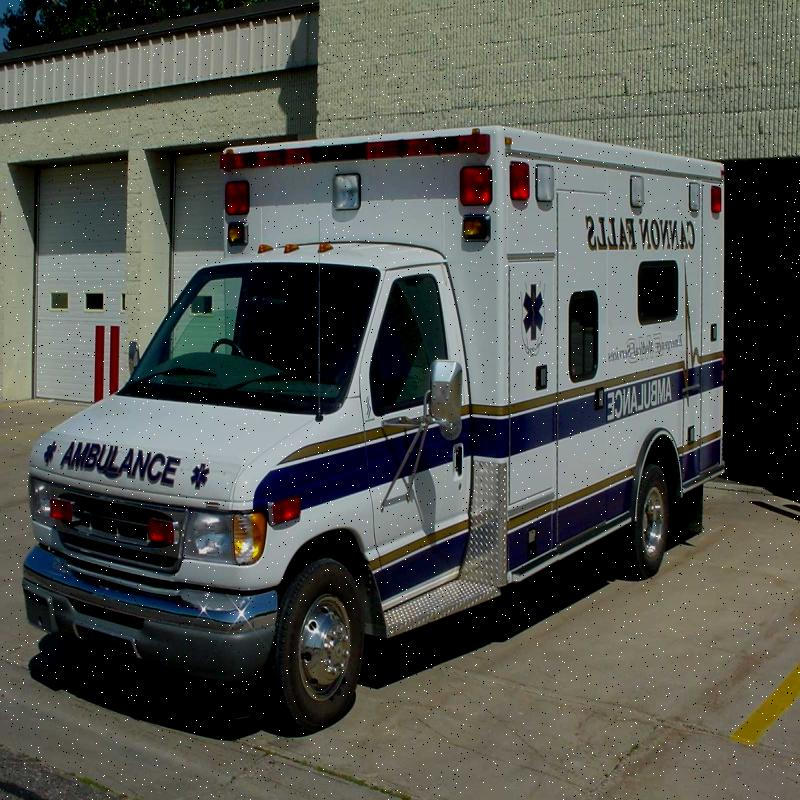AmbulanceSiren: (216, 162, 370, 228), (436, 158, 571, 214)
